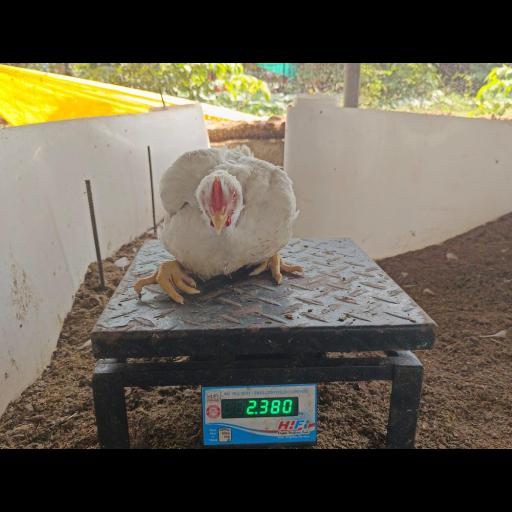chick: (133, 146, 303, 305)
